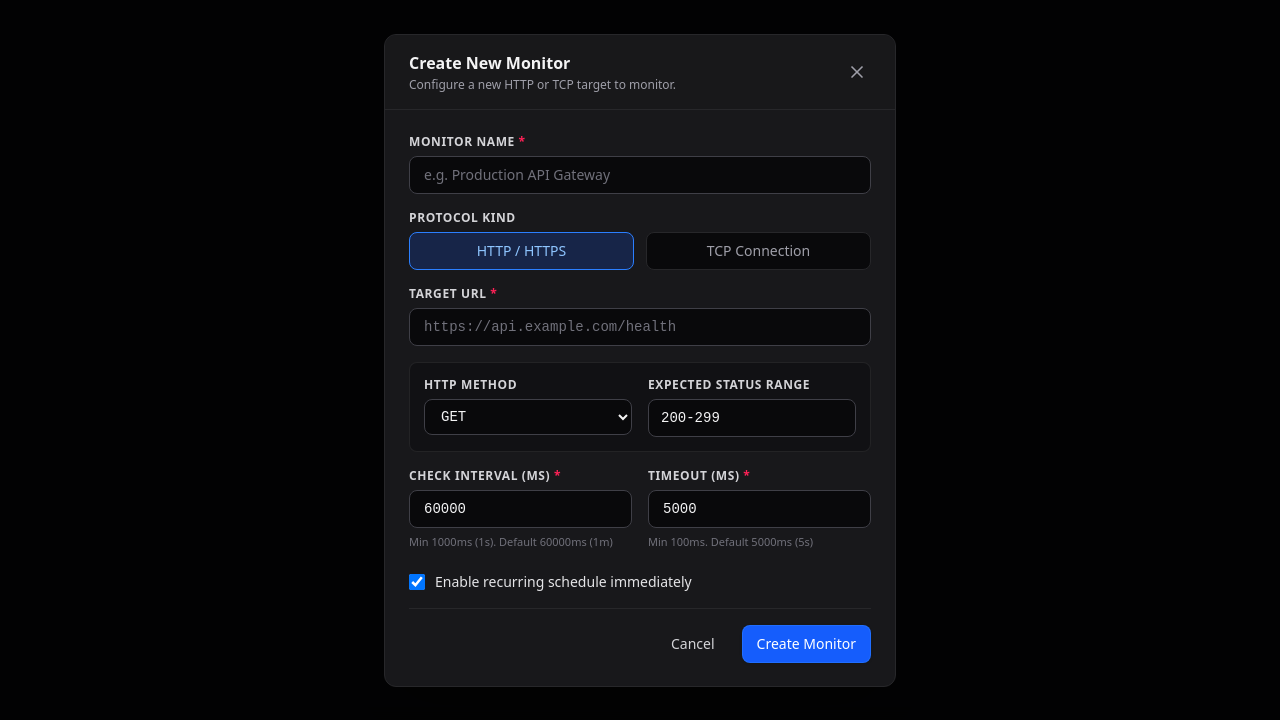
MonitorFormModal › displays authoritative server error message on API rejection
The width and height of the screenshot is (1280, 720).
Note: Fill valid form
In the field with placeholder "e.g. Production API Gateway": (640, 174) x1=409 y1=156 x2=871 y2=194, type "My API"
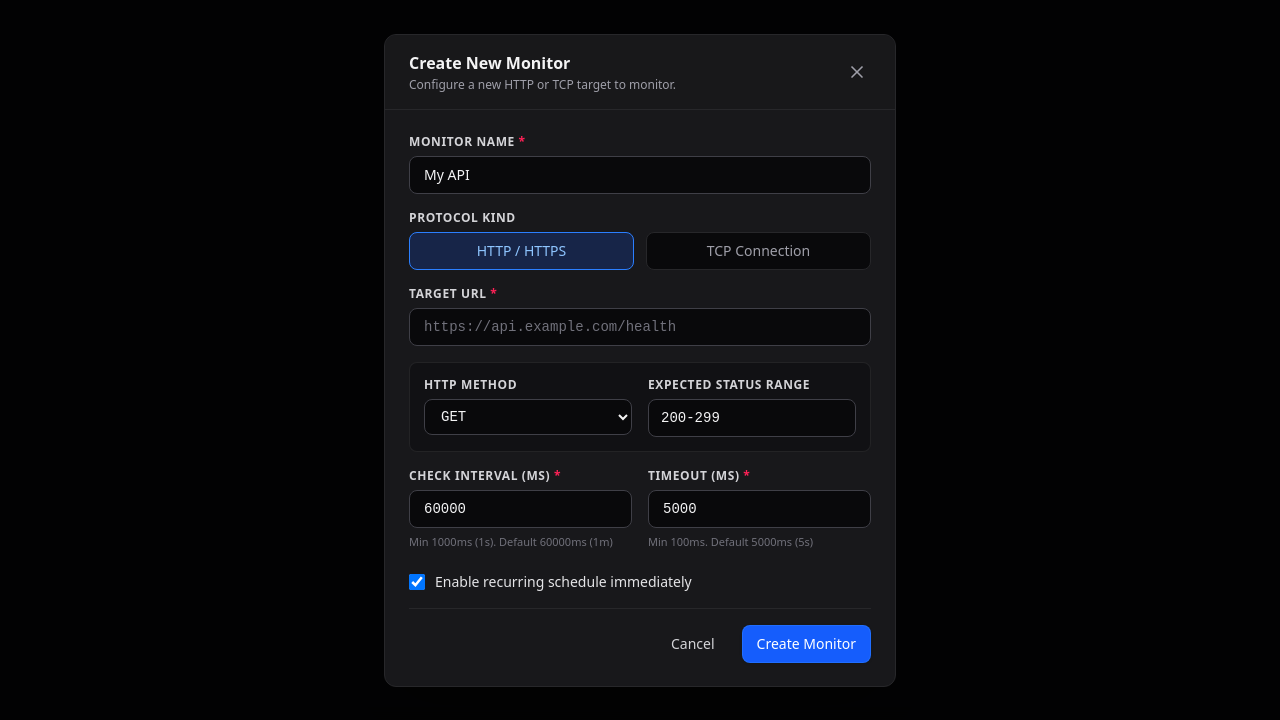
In the field with placeholder "https://api.example.com/health": (640, 326) x1=409 y1=308 x2=871 y2=346, type "https://api.example.com"
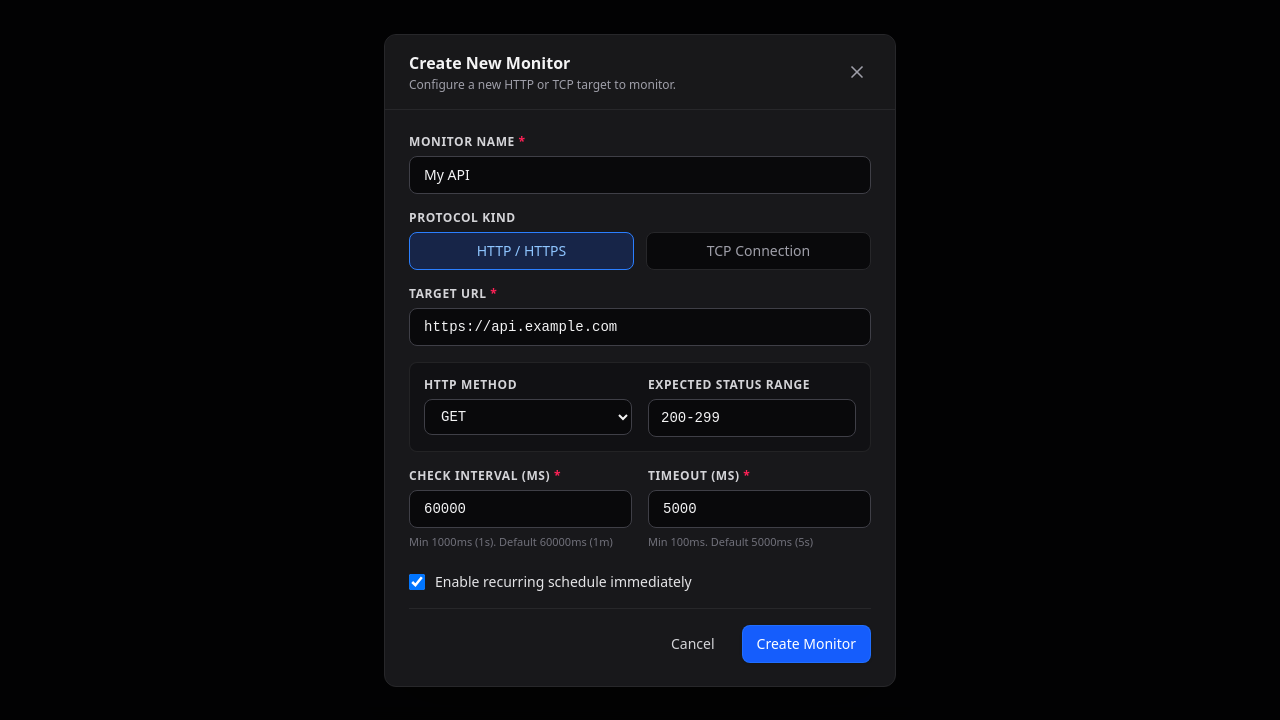
Note: Submit form
Click the button "Create Monitor": (806, 644) x1=742 y1=624 x2=871 y2=662
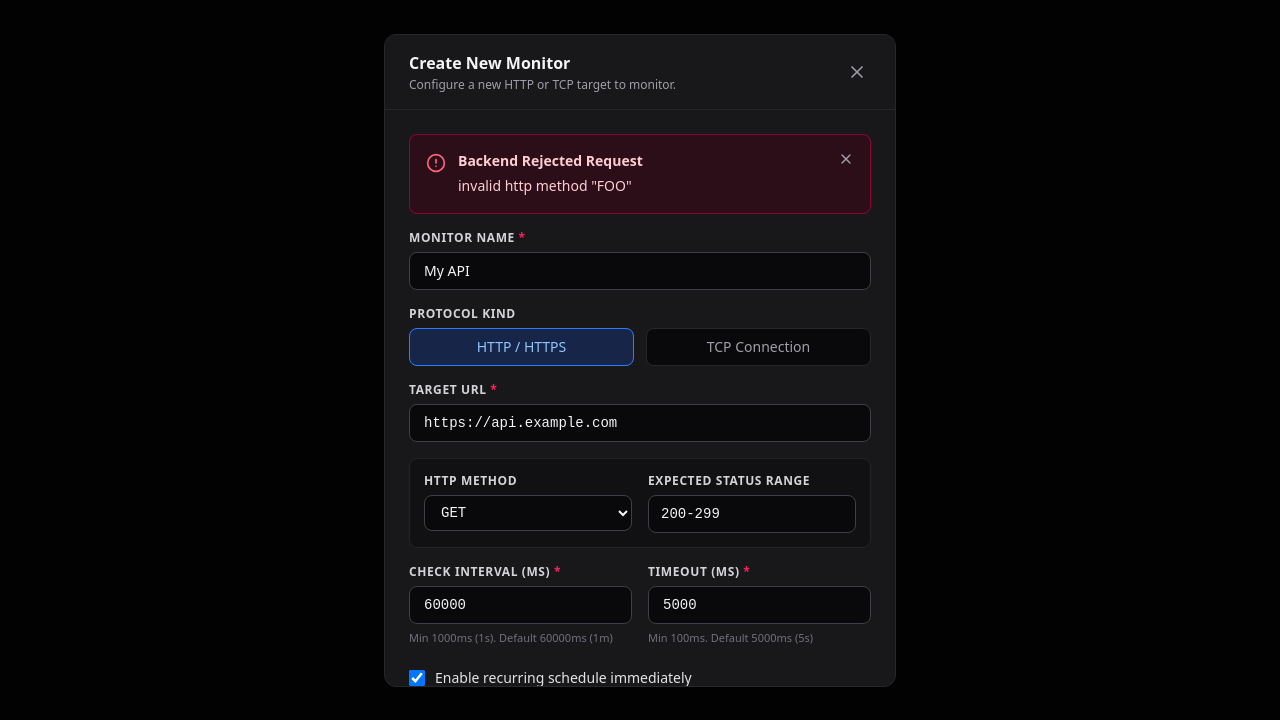
expect the heading "Backend Rejected Request" is shown: met, box x1=458 y1=150 x2=643 y2=170
expect the text "invalid http method \"FOO\"" is shown: met, box x1=458 y1=176 x2=632 y2=194
